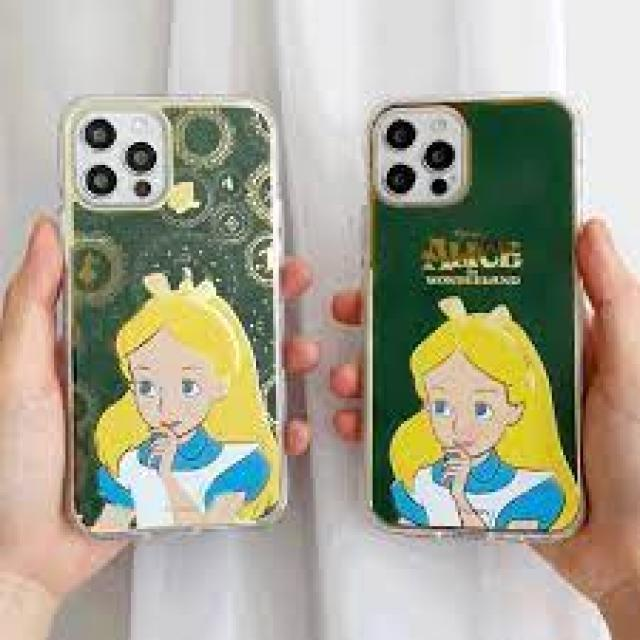Phone: (58, 92, 292, 540), (366, 95, 588, 545)
